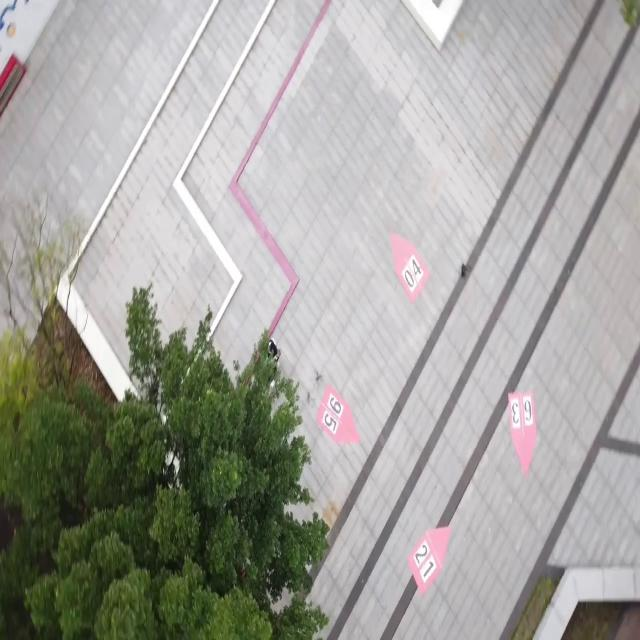-sign-: (409, 526, 451, 596), (316, 382, 360, 446), (390, 232, 429, 303), (507, 392, 537, 476)
